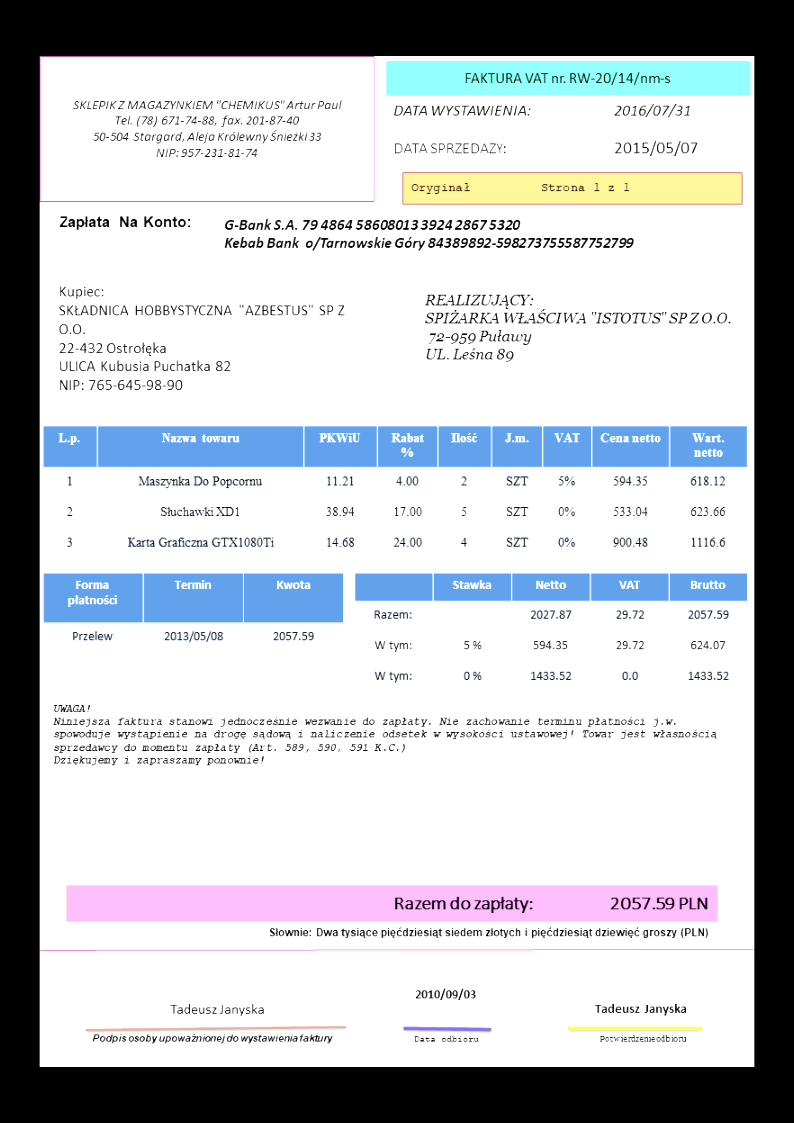Table: (42, 424, 749, 561), (353, 571, 748, 695), (42, 571, 345, 661)
TextBox: (51, 700, 722, 768), (55, 282, 348, 393), (420, 290, 734, 366), (68, 93, 345, 162), (221, 215, 636, 252), (266, 923, 710, 942), (391, 890, 712, 914), (461, 65, 672, 89), (88, 1027, 336, 1046), (409, 178, 634, 197), (391, 99, 533, 119), (391, 136, 509, 159), (57, 212, 192, 231), (610, 137, 701, 159), (593, 998, 690, 1018), (168, 999, 266, 1017), (610, 100, 692, 119), (412, 984, 478, 1002), (598, 1033, 689, 1046), (411, 1032, 481, 1046)
